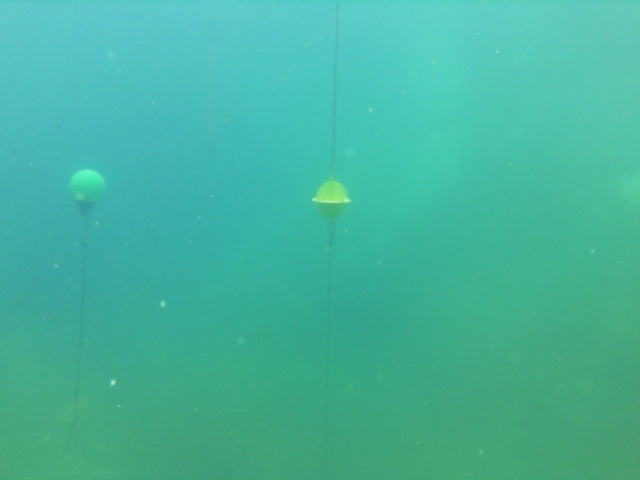buoy_green: (69, 167, 105, 218)
buoy_yellow: (312, 178, 350, 223)
